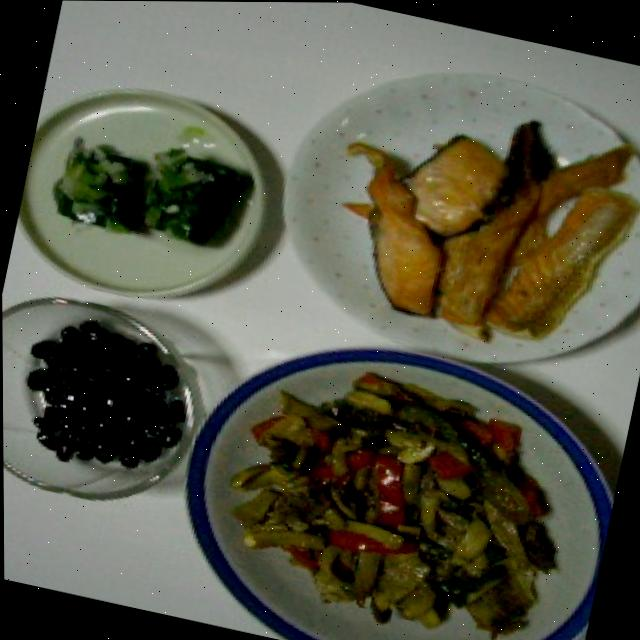熟制海鲜: (299, 73, 640, 374)
